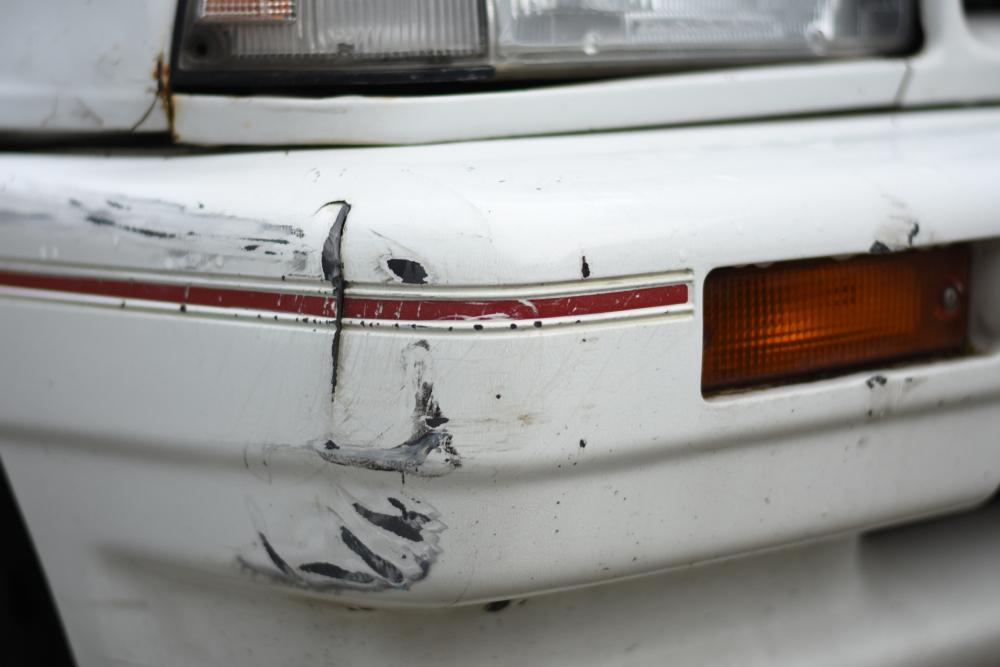crack: (318, 201, 351, 411)
scratch: (235, 334, 469, 604), (62, 191, 318, 272), (377, 244, 441, 292)
